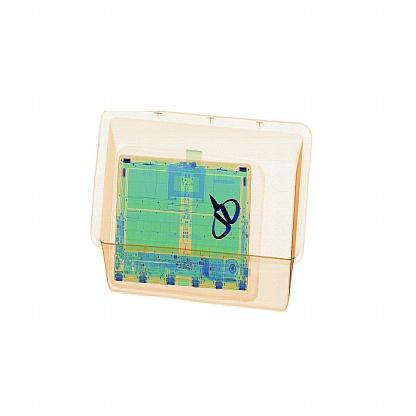gun: (196, 179, 248, 243)
